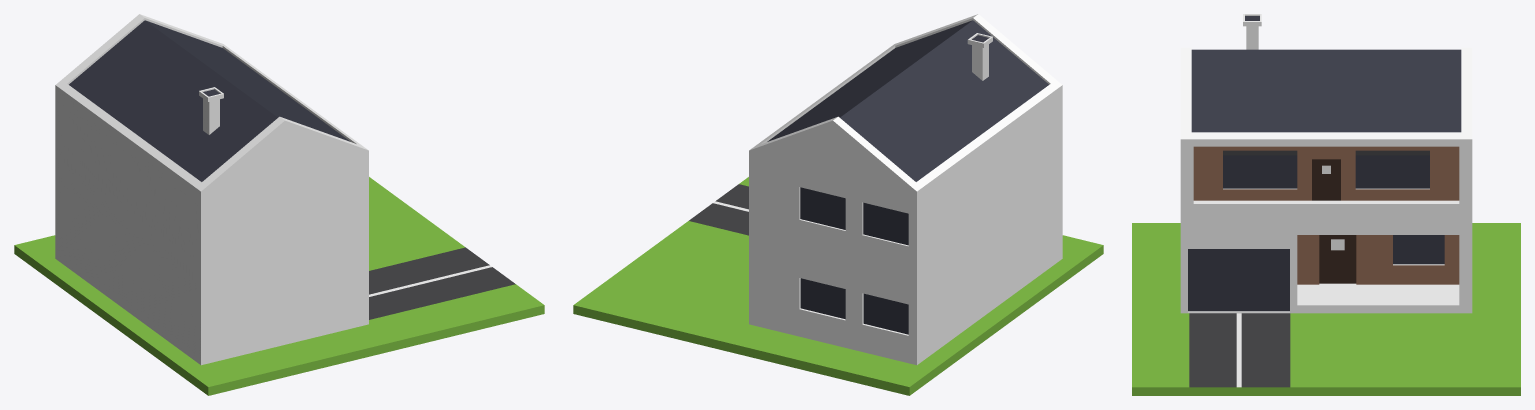
The model's file is house3.fbx.
3 renders of one model, left to right at view 1: azimuth 30°, elevation 25°; view 2: azimuth 150°, elevation 25°; view 3: azimuth 270°, elevation 25°, orthographic.
Visible parts, largest first — view 1: house3; view 2: house3; view 3: house3.
Part boxes in pixels (x1=…): house3: x1=14, y1=14, x2=544, y2=395; house3: x1=573, y1=14, x2=1103, y2=395; house3: x1=1132, y1=14, x2=1520, y2=395.
Bounding box in the file's own units: 1000 × 704 × 1000.
